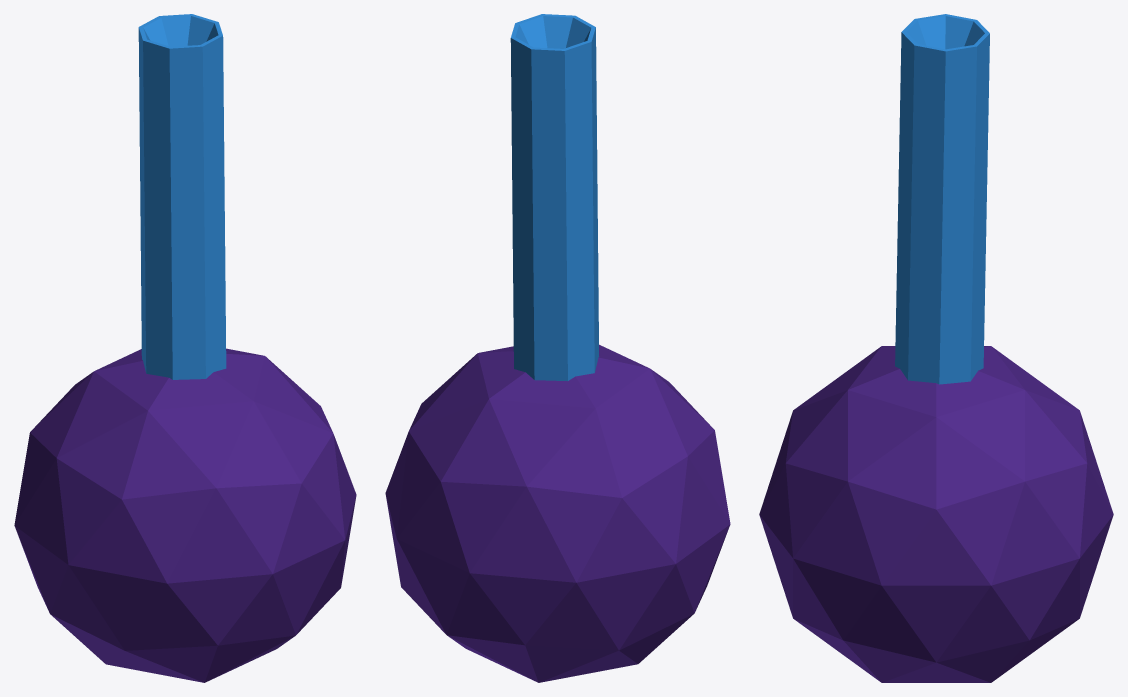
The model's file is UMP.glb.
3 renders of one model, left to right at view 1: azimuth 30°, elevation 25°; view 2: azimuth 150°, elevation 25°; view 3: azimuth 270°, elevation 25°, orthographic.
Visible parts, largest first — view 1: UMP, uracile; view 2: UMP, uracile; view 3: UMP, uracile.
Part boxes in pixels (box(x1,y1,x2,y2)): UMP: box(14, 348, 356, 682); uracile: box(138, 14, 226, 379); UMP: box(385, 344, 730, 682); uracile: box(510, 14, 599, 381); UMP: box(759, 346, 1113, 682); uracile: box(895, 14, 989, 384).
Bounding box in the file's own units: 0.634 × 1.33 × 0.6667.
